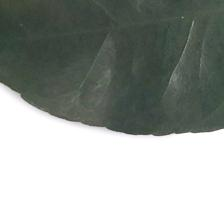healthy: (4, 2, 224, 140)
